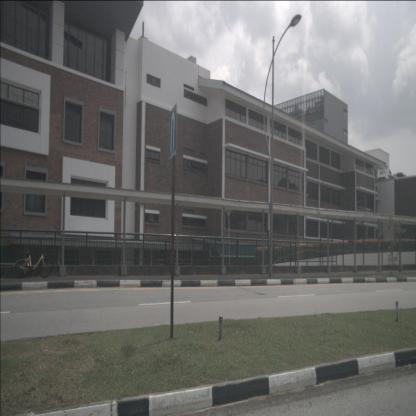vehicle-bicycle: (13, 239, 53, 280)
